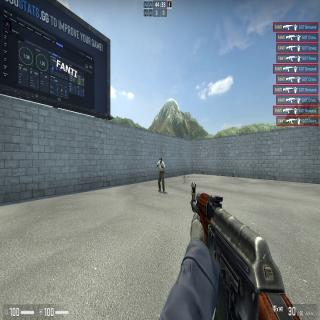T-Body: (158, 158, 165, 192)
T-Head: (159, 157, 162, 163)
